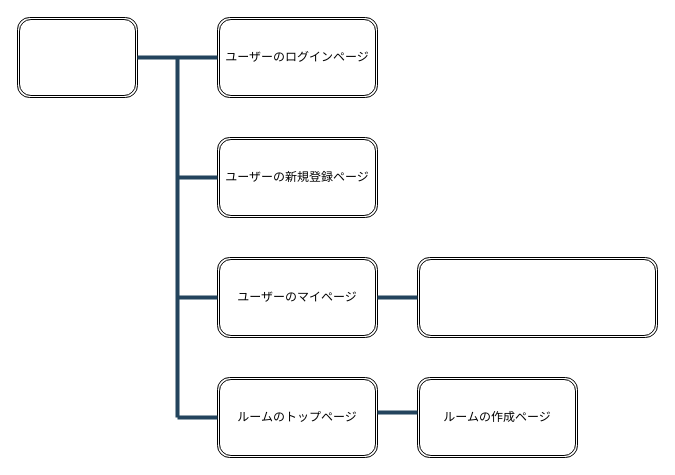
Some shapes in this 675 by 475 pixel diagram are drawn without their labels. Here are the shapes that lost their labels. From the top down, the box of each, then its label:
(16, 16, 138, 98): トップページ
(416, 256, 658, 338): 予定のタイムスケジュール表示ページ
